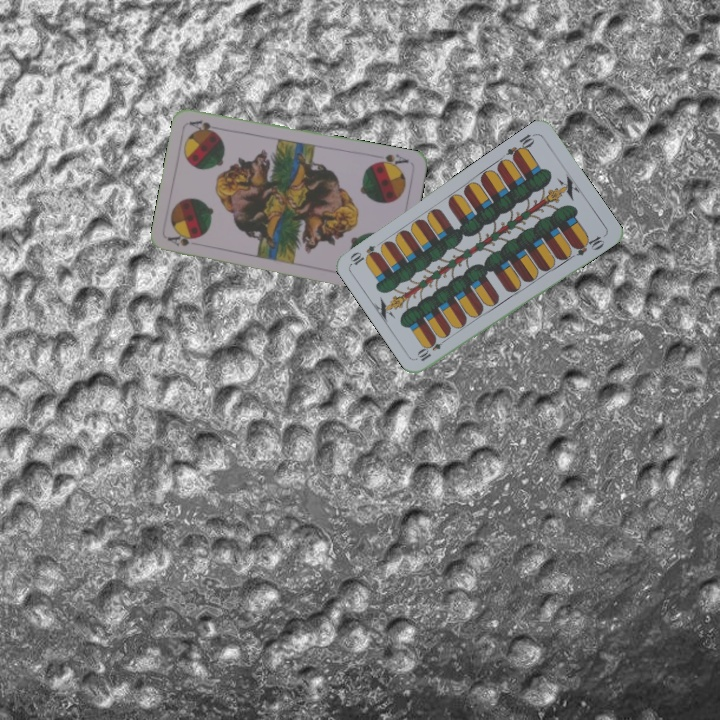E10: (503, 130, 538, 162), (414, 333, 450, 364)
SA: (371, 150, 411, 170), (164, 232, 198, 249)
